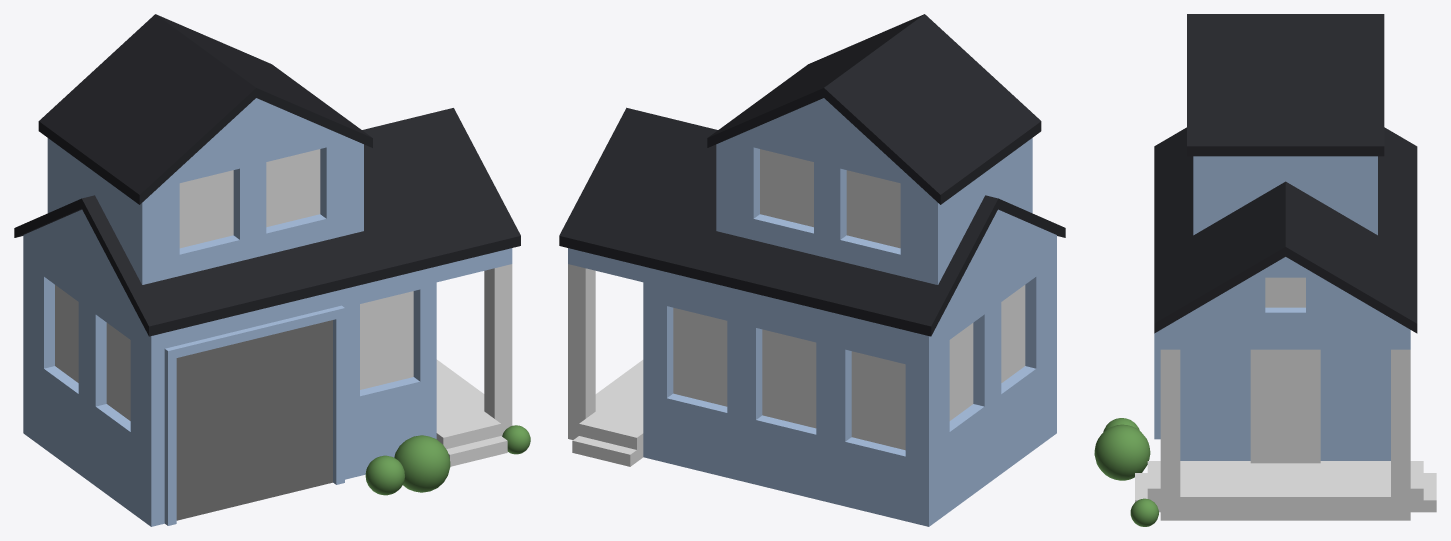
The model's file is house_03.fbx.
The picture shows the model from 3 angles, left to right: view 1: azimuth 30°, elevation 25°; view 2: azimuth 150°, elevation 25°; view 3: azimuth 270°, elevation 25°; orthographic projection. The views are drawn at different scales.
Visible parts, largest first — view 1: house_03; view 2: house_03; view 3: house_03.
Part boxes in pixels (x1,y1,x2,y2): house_03: (14, 14, 530, 526); house_03: (559, 14, 1065, 526); house_03: (1094, 14, 1436, 526).
Size of the model in its own units: 394 by 319 by 412.
Materials: 1 (1 with a texture image).
